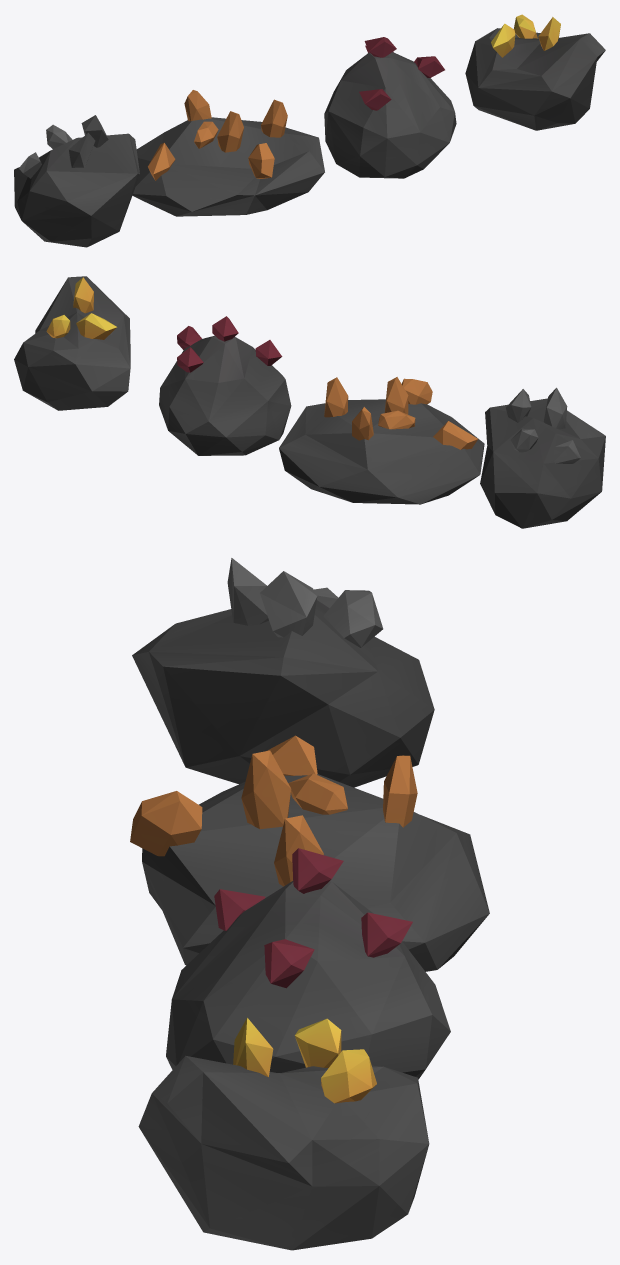
The model's file is Ores.fbx.
The picture shows the model from 3 angles, top to bottom: view 1: azimuth 30°, elevation 25°; view 2: azimuth 150°, elevation 25°; view 3: azimuth 270°, elevation 25°; orthographic projection. The views are drawn at different scales.
Visible parts, largest first — view 1: Bronz, Ruby, Silver, Gold; view 2: Bronz, Ruby, Silver, Gold; view 3: Gold, Silver, Bronz, Ruby.
Boxes of the visible parts, x1,y1,x2,y2 form: Bronz: (132,90,324,216); Ruby: (324,37,456,178); Silver: (14,115,139,247); Gold: (465,14,605,130); Bronz: (279,377,484,504); Ruby: (159,316,291,455); Silver: (480,387,605,528); Gold: (14,276,130,410); Gold: (138,1017,429,1250); Silver: (132,558,434,787); Bronz: (130,735,489,971); Ruby: (166,848,450,1079).
Bounding box in the file's own units: 764 × 159 × 212.
